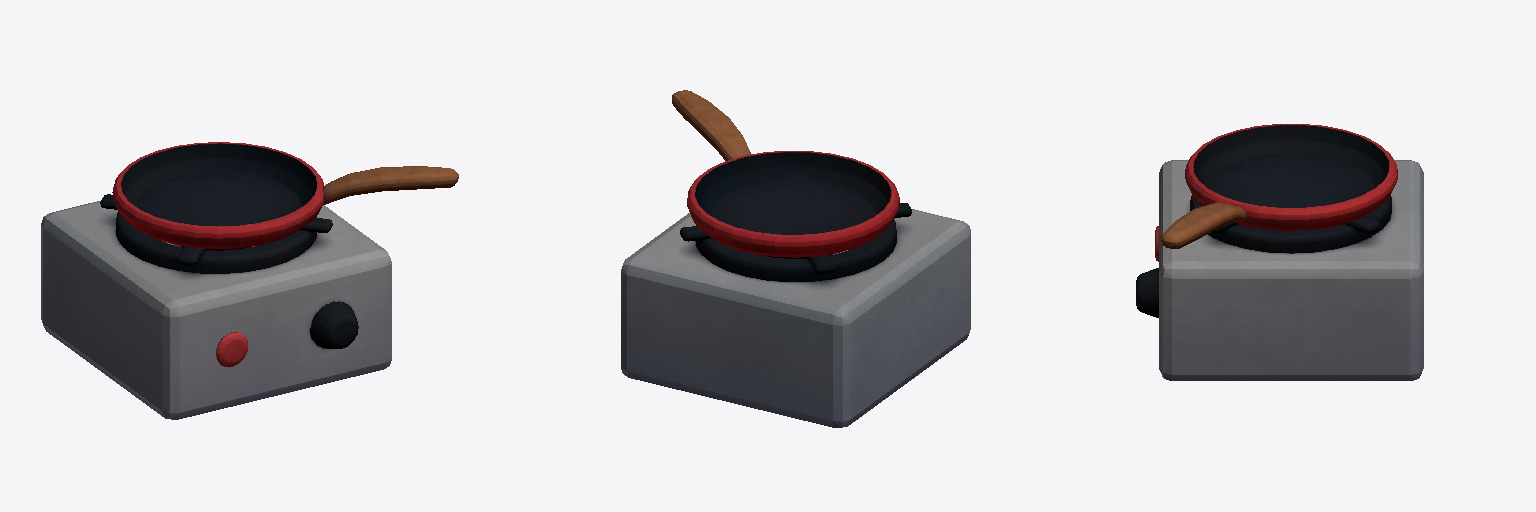
The picture shows the model from 3 angles: view 1: azimuth 30°, elevation 25°; view 2: azimuth 150°, elevation 25°; view 3: azimuth 270°, elevation 25°; orthographic projection.
Visible parts, largest first — view 1: StoveCounter.Base, FryPan.Base; view 2: StoveCounter.Base, FryPan.Base; view 3: StoveCounter.Base, FryPan.Base.
Boxes of the visible parts, x1,y1,x2,y2 form: StoveCounter.Base: [41, 194, 391, 419]; FryPan.Base: [112, 142, 458, 248]; StoveCounter.Base: [621, 203, 970, 427]; FryPan.Base: [672, 90, 899, 257]; StoveCounter.Base: [1136, 160, 1423, 380]; FryPan.Base: [1161, 124, 1397, 248].
Bounding box in the file's own units: 1.29 × 0.7605 × 1.09.
Materials: 2 (2 with a texture image).